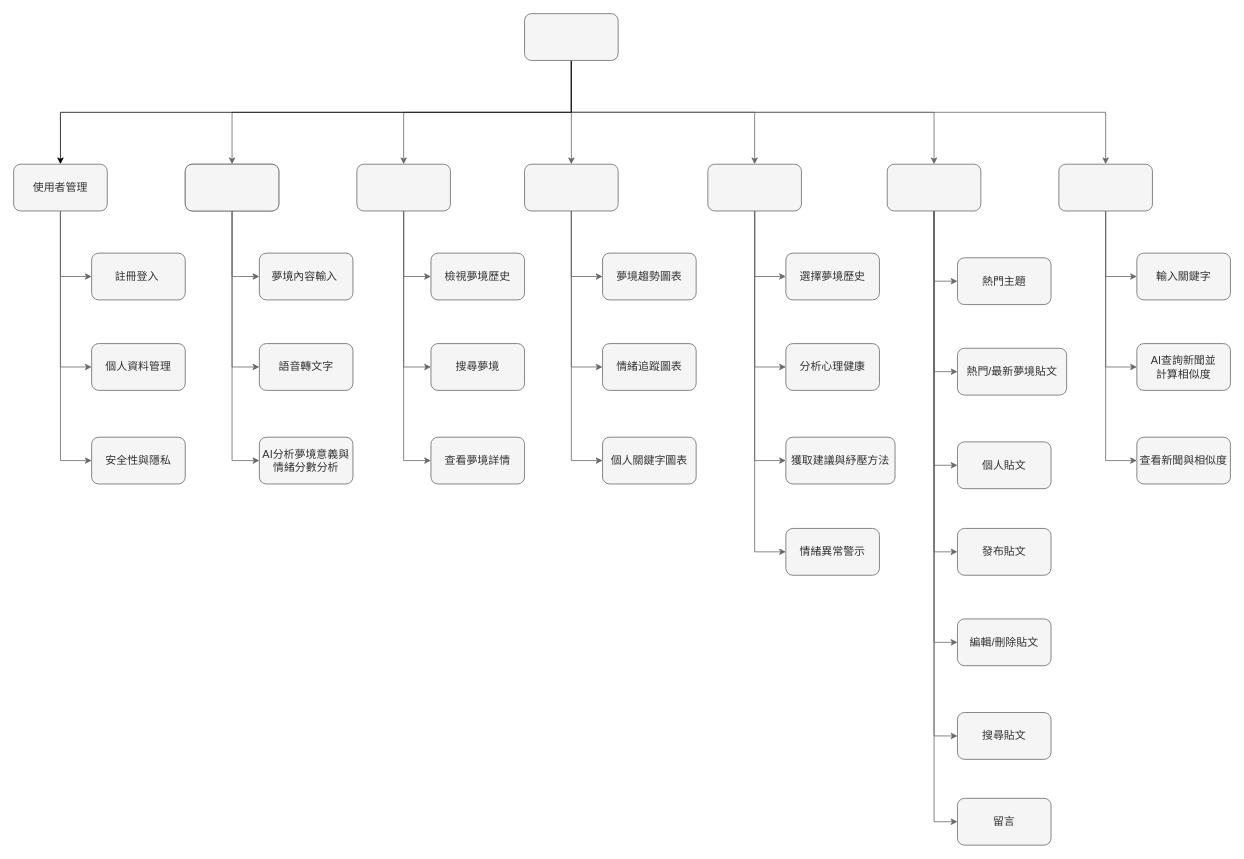
Some shapes in this 1244 by 859 pixel diagram are drawn without their labels. The box of each missing label's shape, as (x1, y1, x2, y2) in pixels:
DreamEcho AI: (524, 13, 618, 60)
夢境分析數據: (524, 163, 618, 211)
夢境心理診斷: (707, 163, 801, 211)
夢境歷史記錄: (356, 163, 450, 211)
夢境社群討論區: (886, 163, 981, 211)
夢境與相關新聞: (1058, 163, 1152, 211)
解析新夢境: (184, 163, 279, 211)
